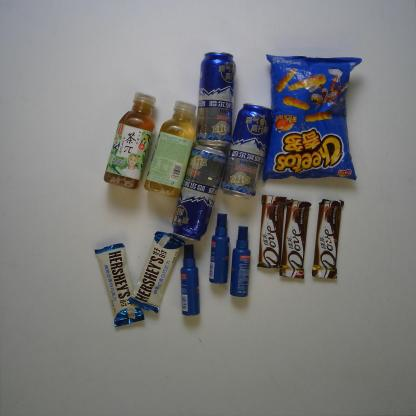Alcohol: (218, 100, 277, 202), (171, 143, 228, 243), (196, 50, 238, 152)
Chocolate: (127, 228, 186, 314), (93, 238, 145, 332), (310, 195, 346, 281), (279, 197, 312, 281), (255, 193, 288, 271)
Drink: (103, 87, 159, 193), (142, 98, 198, 198)
Personal Hygiene: (178, 241, 202, 318), (206, 212, 231, 285), (230, 224, 252, 298)
Puffed Food: (263, 52, 365, 183)
